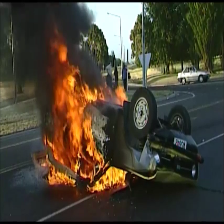fire_h: (39, 23, 111, 181), (87, 166, 127, 193), (48, 167, 75, 185)
fire_l: (115, 85, 128, 105), (41, 154, 52, 166), (104, 81, 111, 95)
